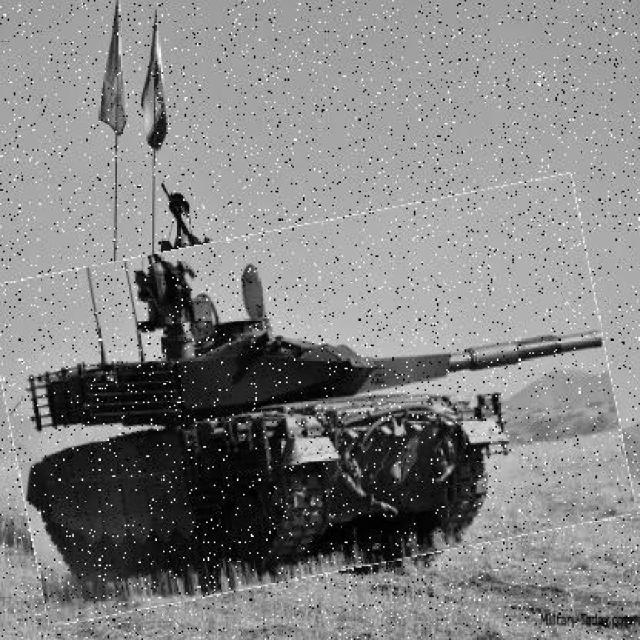Tank: (1, 199, 623, 601)
